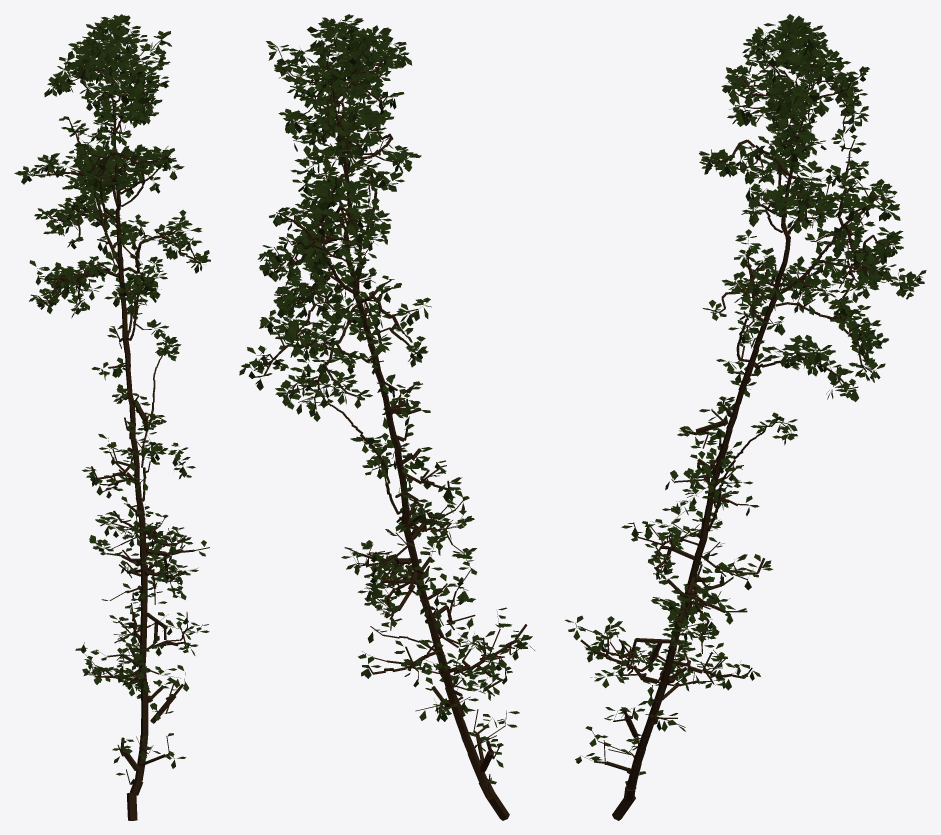
The model's file is 2022_tree_214.obj.
3 views of the same model, side by side, from view 1: azimuth 30°, elevation 25°; view 2: azimuth 150°, elevation 25°; view 3: azimuth 270°, elevation 25° (orthographic). The views are drawn at different scales.
Parts seen in each view (by area): view 1: Leaves, TrunkAndBranches; view 2: Leaves, TrunkAndBranches; view 3: Leaves, TrunkAndBranches.
Boxes of the visible parts, <box> form: Leaves: <box>14,14,210,784</box>; TrunkAndBranches: <box>23,18,209,820</box>; Leaves: <box>239,14,534,785</box>; TrunkAndBranches: <box>248,18,527,820</box>; Leaves: <box>564,14,926,785</box>; TrunkAndBranches: <box>575,25,919,820</box>.
Bounding box in the file's own units: 4.71 × 21.18 × 8.37.
